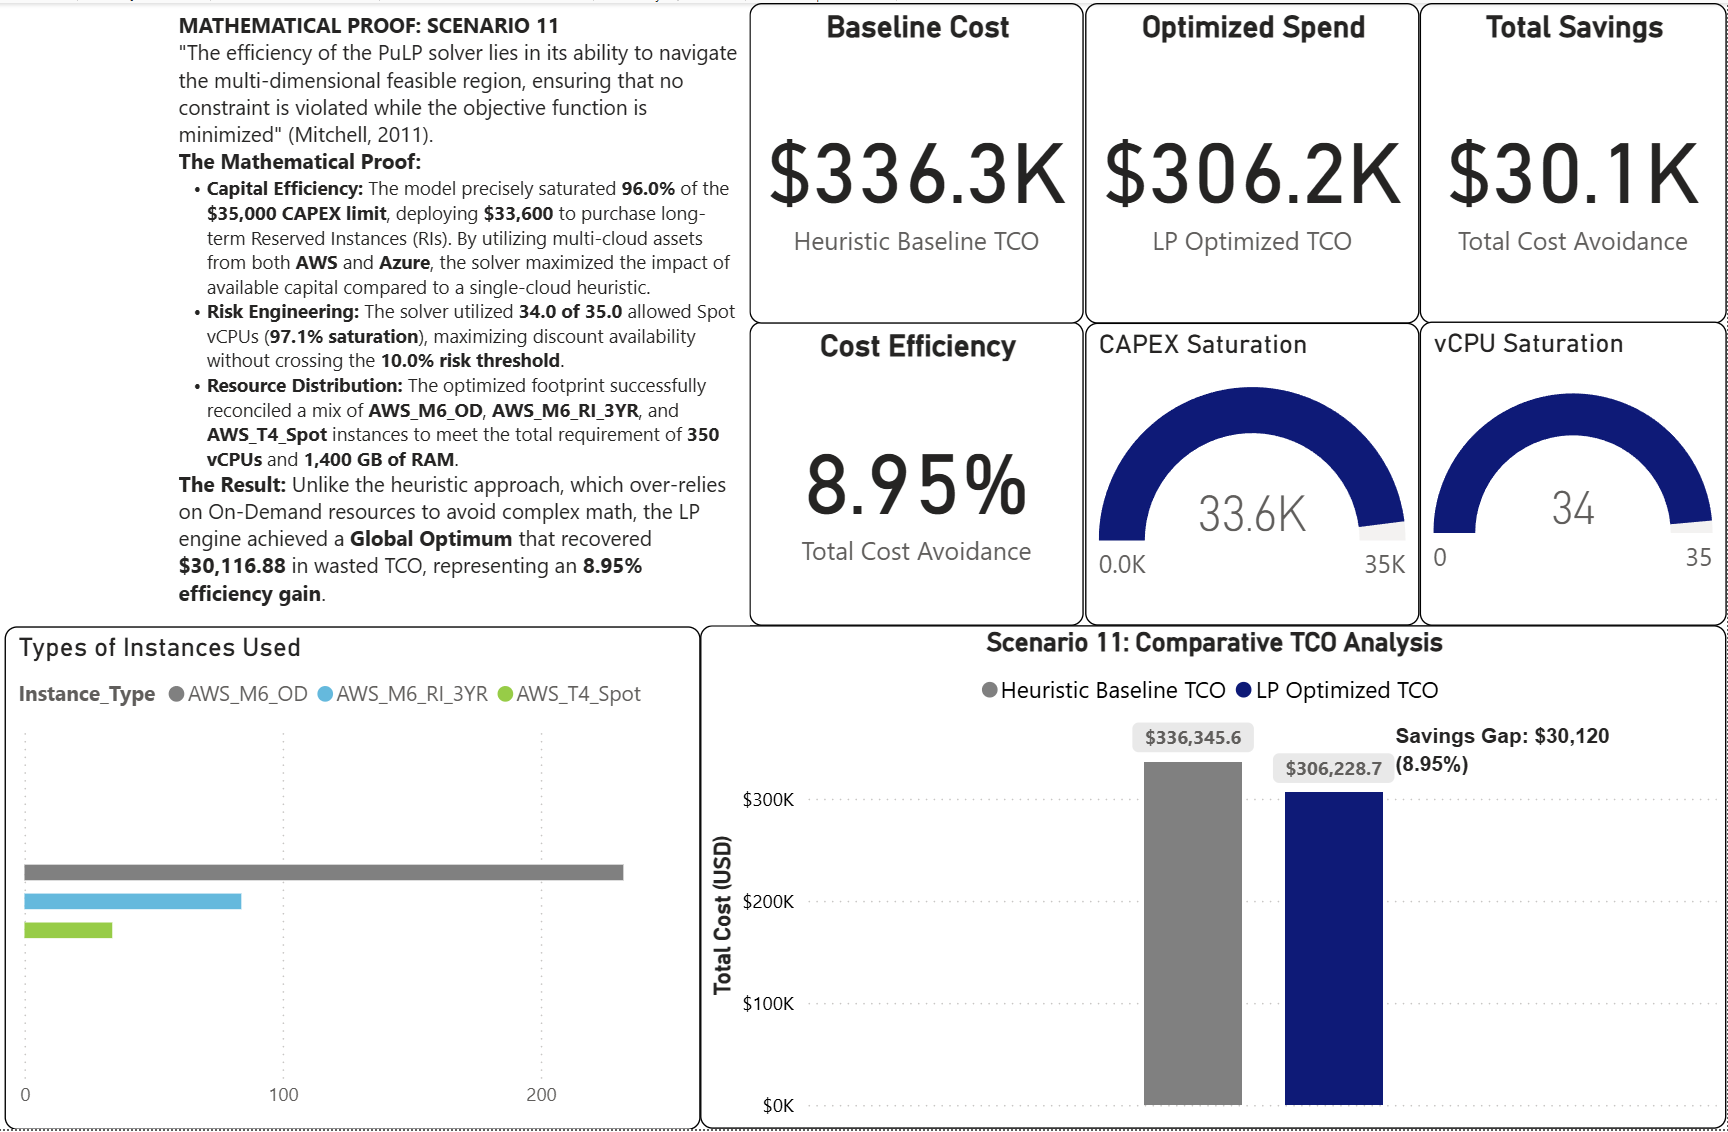

The page's visual inventory and layout, read from the dashboard file:
{"tool":"powerbi","page":{"name":"Scenario 11","canvas":[1280,720],"ordinal":7},"visuals":[{"type":"card","title":"Total Savings","fields":{"Values":["results_scenario_11.S11 LP.Savings_Value"]},"box":[490.5,165.1,197.8,160.5],"z":0},{"type":"card","title":"Cost Efficiency","fields":{"Values":["results_scenario_11.S11 LP.Savings_Percent"]},"box":[688.3,165.1,173.7,161.9],"z":1000},{"type":"card","title":"Optimized Spend","fields":{"Values":["results_scenario_11.S11 LP.Total_TCO"]},"box":[276.5,165.1,214,161.2],"z":2000},{"type":"card","title":"Baseline Cost","fields":{"Values":["results_scenario_11.S11 Heuristic.Total_TCO"]},"box":[61.8,165.1,214.7,161.2],"z":3000},{"type":"clusteredColumnChart","title":"Scenario 11: Comparative  TCO Analysis","fields":{"Y":["results_scenario_11.S11 Heuristic.Total_TCO","results_scenario_11.S11 LP.Total_TCO"]},"box":[596.9,325.8,656.6,321.8],"z":3000,"group":"g1"},{"type":"group","id":"g1","title":"Group 1","box":[596.9,325.8,656.6,321.8],"z":4000},{"type":"textbox","box":[1036.3,382.2,160.1,55.7],"z":4000,"group":"g1"},{"type":"gauge","title":"CAPEX Saturation","fields":{"Y":["results_scenario_11.S11 LP.CAPEX_Spent"],"MaxValue":["results_scenario_11.S11 LP.CAPEX_Limit"]},"box":[862,165.1,194.9,161.2],"z":5000},{"type":"gauge","title":"vCPU Saturation","fields":{"Y":["results_scenario_11.S11 LP.Spot_Risk_Used"],"MaxValue":["results_scenario_11.S11 LP.Spot_Risk_Limit"]},"box":[1056.9,165.1,196.4,161.2],"z":6000},{"type":"clusteredBarChart","title":"Types of Instances Used","fields":{"Y":["Sum(results_scenario_11.Total_Instance_vCPU)"],"Series":["results_scenario_11.Instance_Type"]},"box":[61.8,326.4,534.9,321.7],"z":7000}]}

Visuals, with their boxes on the page's 1280x720 design canvas (x1, y1, x2, y2). These are canvas units, not pixel positions in the 1728x1132 screenshot, which may show the page scaled, cropped or inside an application window:
"Total Savings" card: {"left": 490, "top": 165, "right": 688, "bottom": 326}
"Cost Efficiency" card: {"left": 688, "top": 165, "right": 862, "bottom": 327}
"Optimized Spend" card: {"left": 276, "top": 165, "right": 490, "bottom": 326}
"Baseline Cost" card: {"left": 62, "top": 165, "right": 276, "bottom": 326}
"Scenario 11: Comparative  TCO Analysis" clusteredColumnChart: {"left": 597, "top": 326, "right": 1254, "bottom": 648}
"Group 1" group: {"left": 597, "top": 326, "right": 1254, "bottom": 648}
textbox: {"left": 1036, "top": 382, "right": 1196, "bottom": 438}
"CAPEX Saturation" gauge: {"left": 862, "top": 165, "right": 1057, "bottom": 326}
"vCPU Saturation" gauge: {"left": 1057, "top": 165, "right": 1253, "bottom": 326}
"Types of Instances Used" clusteredBarChart: {"left": 62, "top": 326, "right": 597, "bottom": 648}
